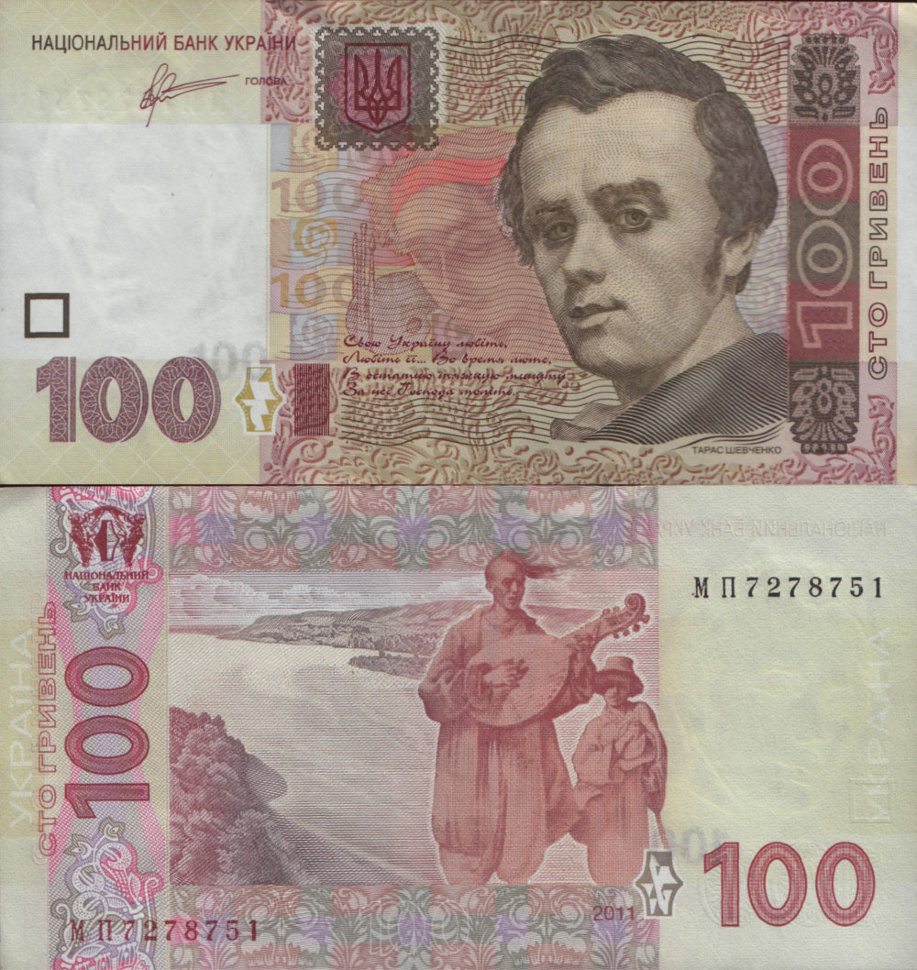bn_100: (1, 0, 917, 488), (8, 500, 914, 969)
